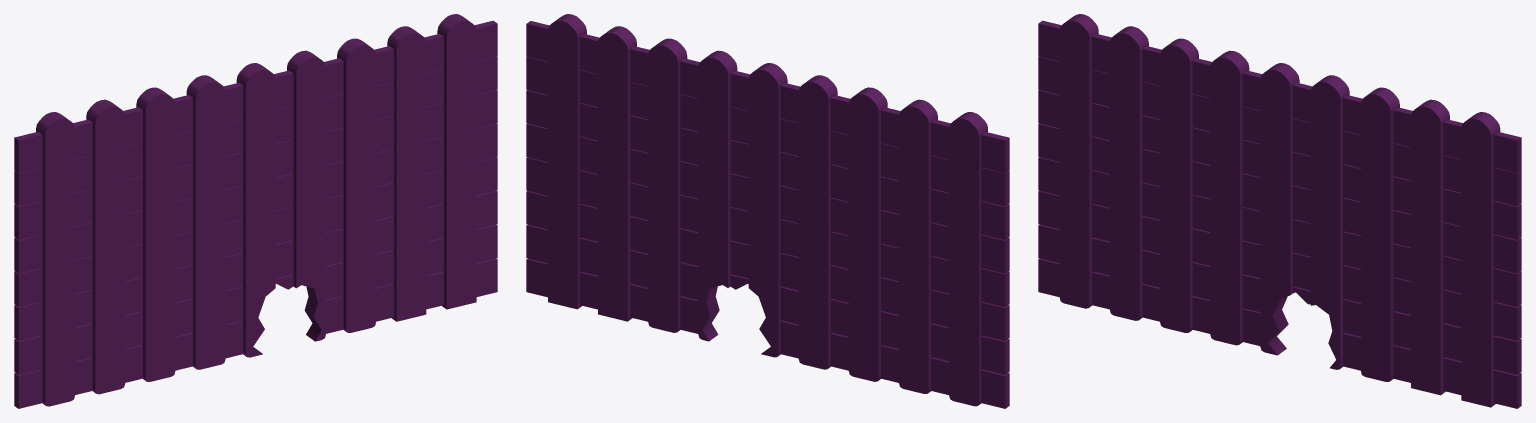
The model's file is VallaGrandeFronteraConAgujeroPato_CalleLvl2_UV's.fbx.
The picture shows the model from 3 angles, left to right: view 1: azimuth 30°, elevation 25°; view 2: azimuth 150°, elevation 25°; view 3: azimuth 330°, elevation 25°; orthographic projection.
Parts seen in each view (by area): view 1: Valla Mapeado010; view 2: Valla Mapeado010; view 3: Valla Mapeado010.
Part boxes in pixels (x1,y1,x2,y2): Valla Mapeado010: (14,14,497,408); Valla Mapeado010: (526,14,1009,408); Valla Mapeado010: (1038,14,1521,408).
Bounding box in the file's own units: 762 × 433 × 25.52.
